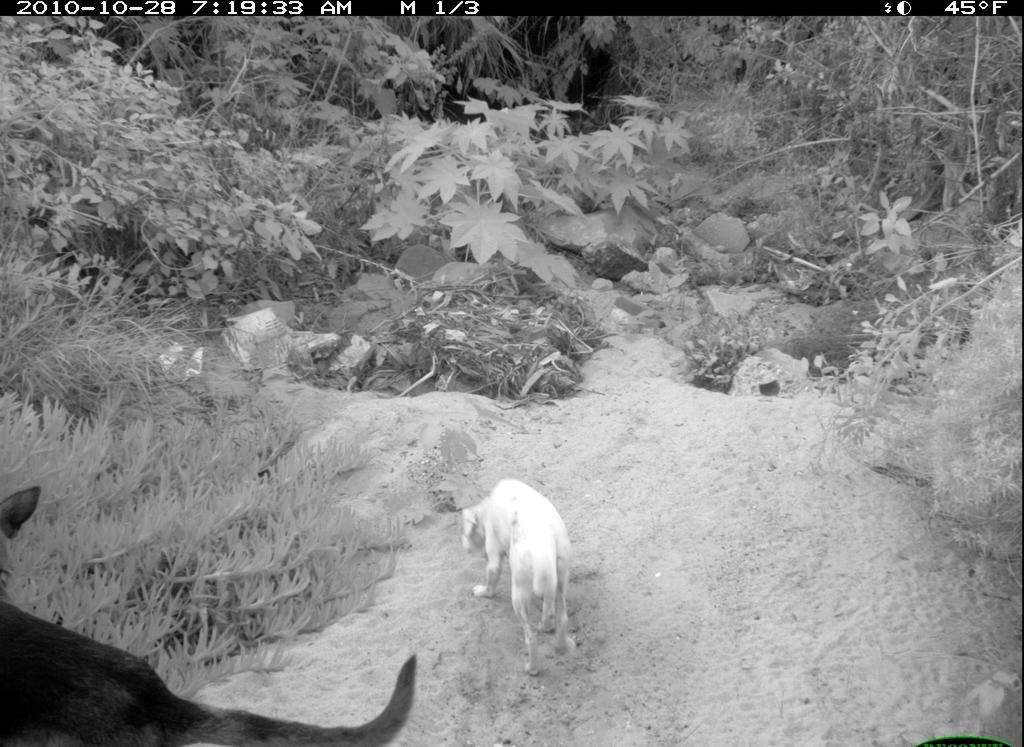dog: (3, 479, 425, 747), (450, 474, 588, 680)
